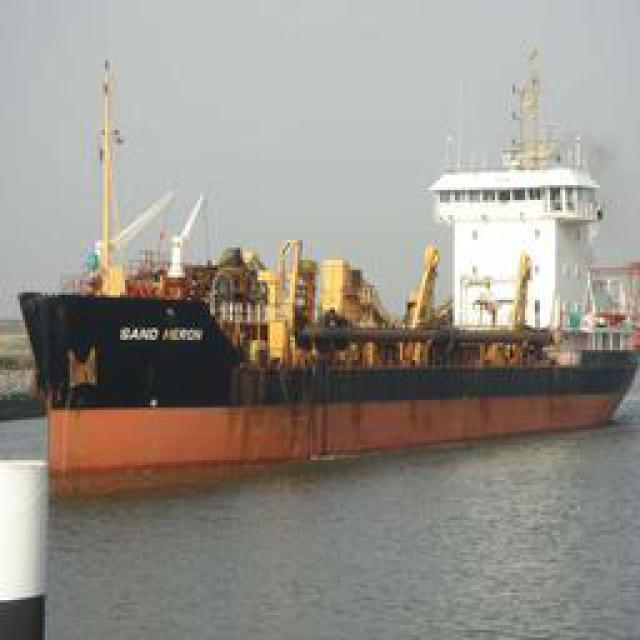Ship: (20, 266, 635, 481)
